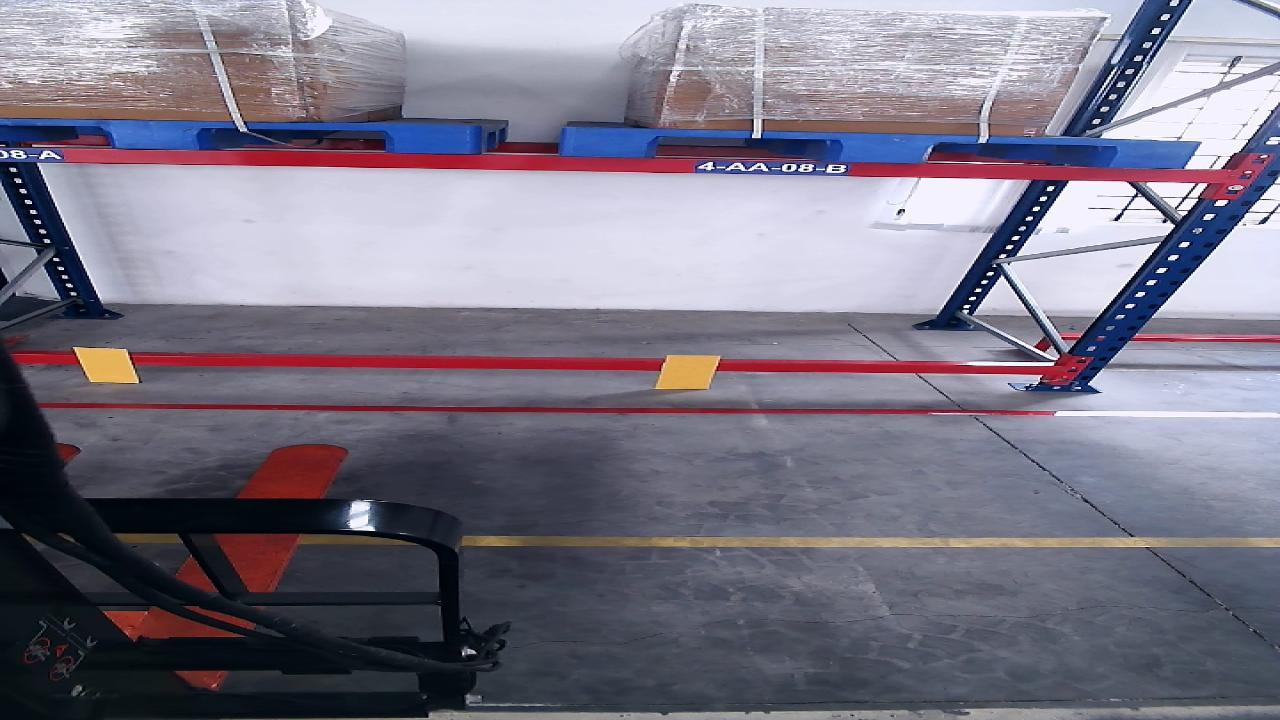h_rack: (1, 148, 1223, 183), (14, 353, 1047, 375)
orange_strip: (72, 347, 142, 382), (657, 354, 721, 389)
red_line: (42, 401, 1275, 418)
small_pallet: (560, 127, 1198, 167), (4, 118, 476, 153)
yellow_line: (304, 535, 1277, 546)
